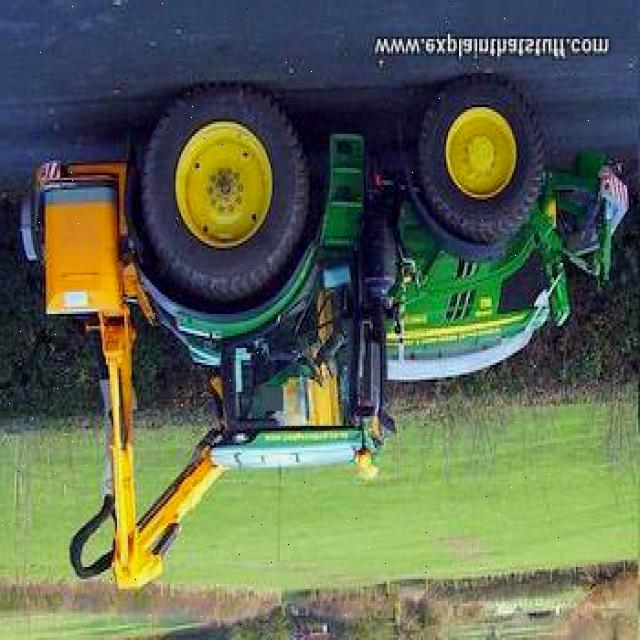Tratores - v5 YOLO V8L 2024-11-13: (137, 84, 628, 480)
